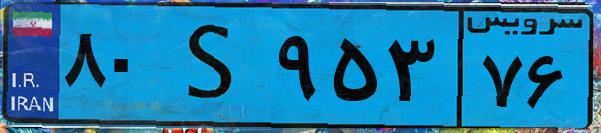0: (110, 28, 158, 98)
3: (385, 28, 445, 110)
5: (330, 28, 385, 110)
6: (525, 38, 570, 115)
7: (475, 38, 525, 113)
8: (57, 26, 110, 100)
9: (270, 28, 330, 110)
S: (158, 12, 270, 120)
